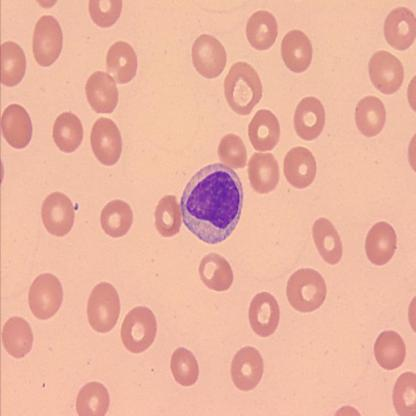Metamyelocyte: (178, 159, 244, 246)
